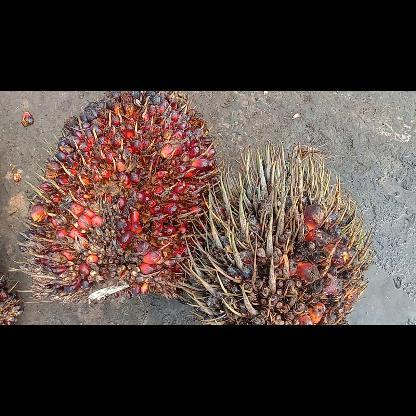TBS abnormal: (179, 142, 373, 324)
TBS masak: (11, 91, 222, 303)
